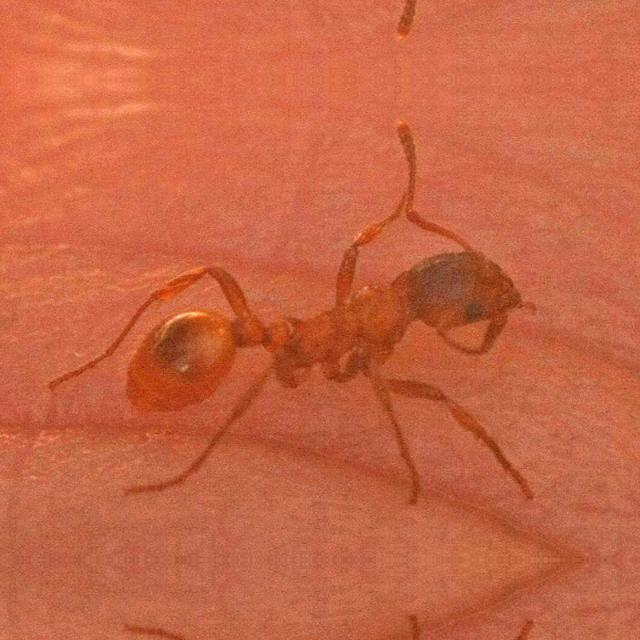Myrmica: (50, 186, 558, 434)
